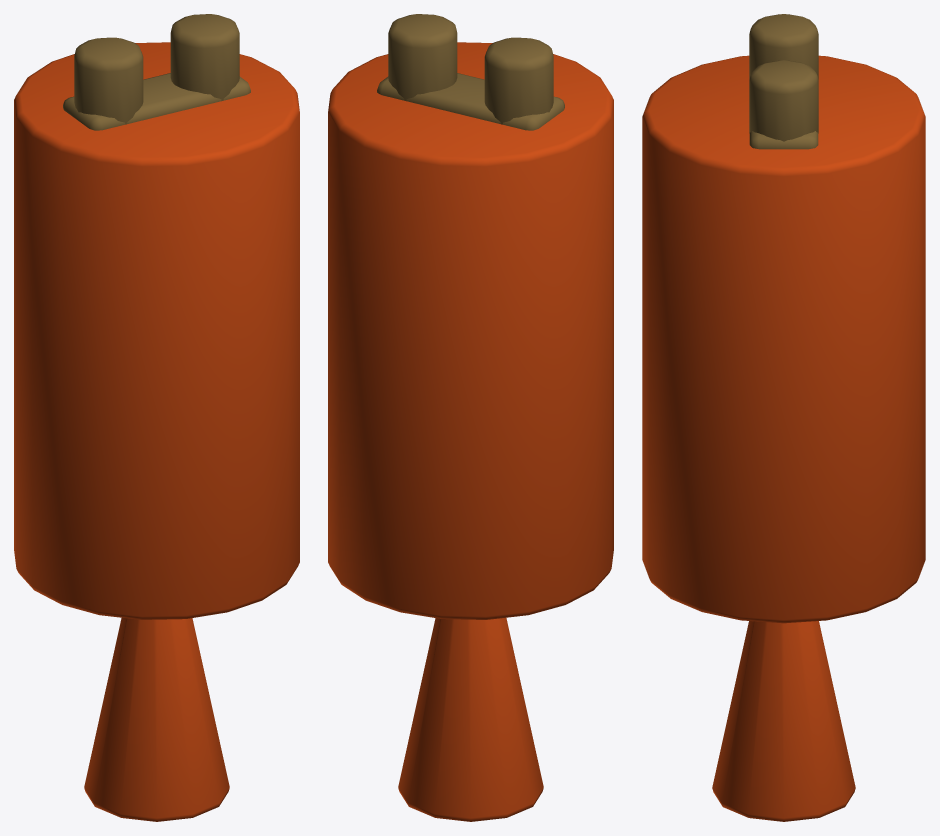
File: SM_SV20_Geophone.glb
3 renders of one model, left to right at view 1: azimuth 30°, elevation 25°; view 2: azimuth 150°, elevation 25°; view 3: azimuth 270°, elevation 25°, orthographic.
Parts seen in each view (by area): view 1: SM_SV20_Geophone, Cable_Clamps_Top; view 2: SM_SV20_Geophone, Cable_Clamps_Top; view 3: SM_SV20_Geophone, Cable_Clamps_Top.
Part boxes in pixels (box(x1,y1,x2,y2)): SM_SV20_Geophone: box(14, 42, 299, 821); Cable_Clamps_Top: box(63, 14, 250, 130); SM_SV20_Geophone: box(328, 42, 613, 821); Cable_Clamps_Top: box(377, 14, 564, 130); SM_SV20_Geophone: box(642, 55, 925, 821); Cable_Clamps_Top: box(749, 14, 818, 149).
Size of the model in its own units: 0.062 by 0.18 by 0.062.
